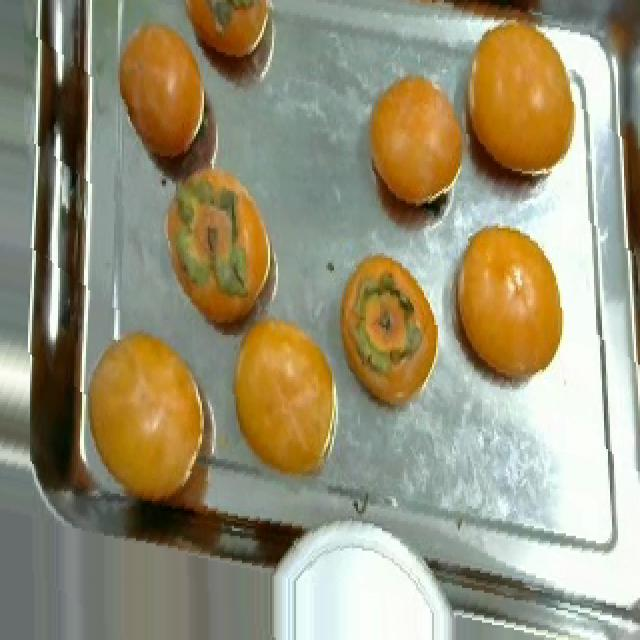Fruit: (446, 0, 588, 211), (82, 317, 220, 521), (440, 208, 578, 404), (150, 152, 286, 342), (220, 300, 346, 504), (352, 57, 474, 241), (330, 238, 446, 427), (110, 8, 214, 174), (166, 0, 288, 104)
